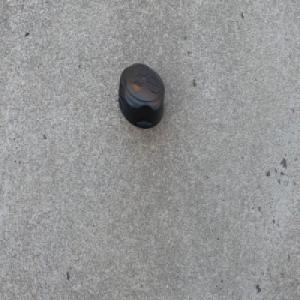FuelCap: (117, 62, 165, 132)
